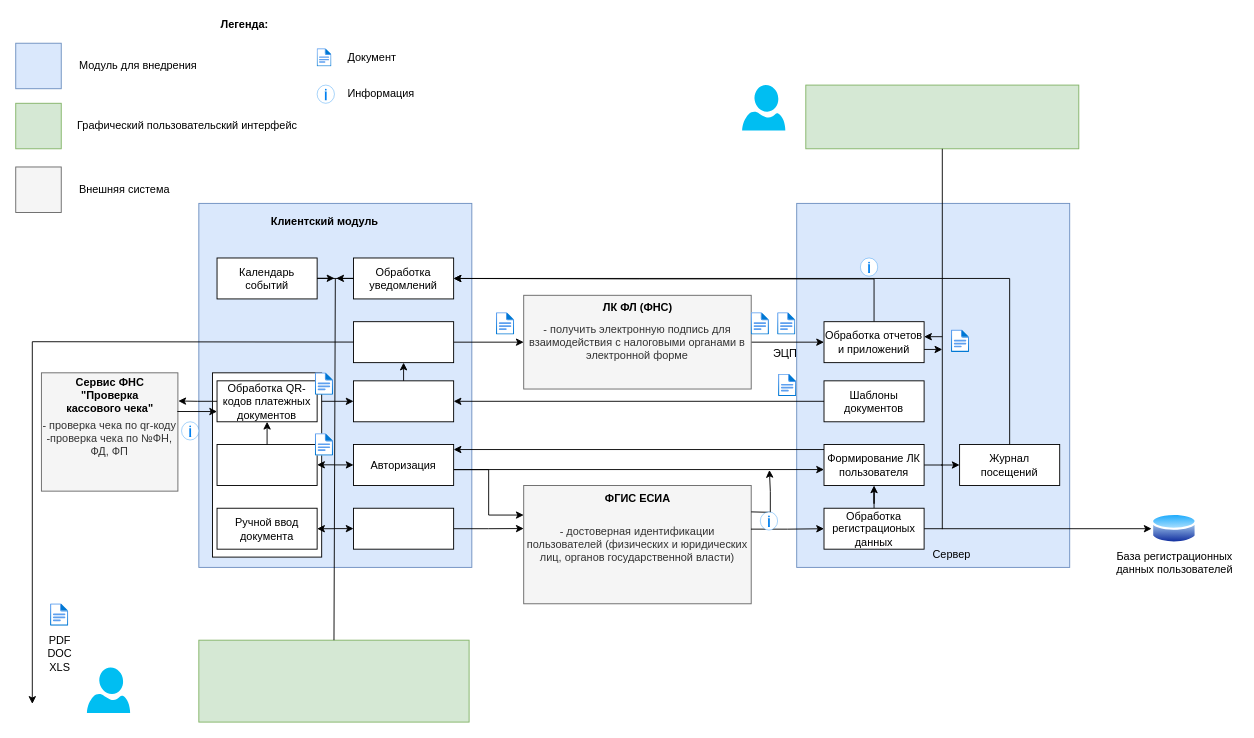
Some shapes in this 1254 by 738 pixel diagram are drawn without their labels. The box of each missing label's shape, as (x1, y1, x2, y2) in pixels:
GUI пользователя: (198, 639, 469, 722)
GUI сотрудника: (805, 84, 1079, 149)
Загрузка скан-копий: (216, 444, 317, 485)
Регистрация: (353, 507, 454, 549)
Формирование отчета: (353, 380, 454, 422)
Экспорт данных: (353, 321, 454, 363)
